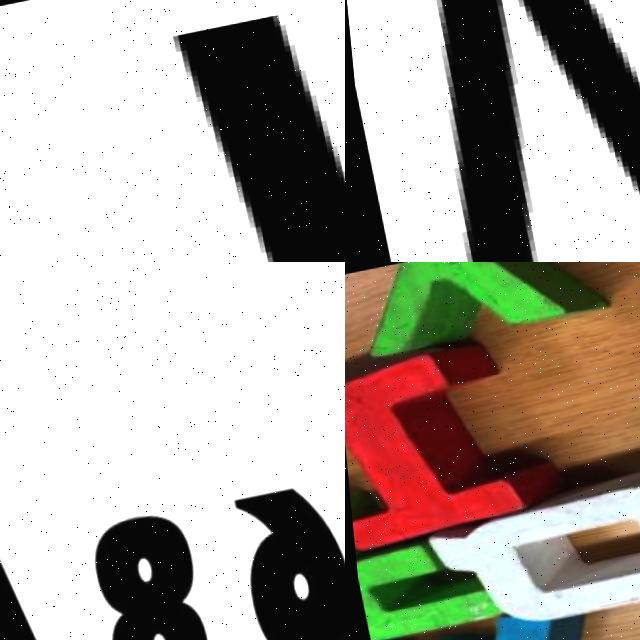1: (90, 0, 345, 262)
7: (0, 526, 62, 640)
8: (63, 509, 212, 640)
9: (212, 464, 345, 640)
F: (345, 464, 503, 640)
Q: (444, 461, 640, 640)
W: (362, 0, 640, 262)
